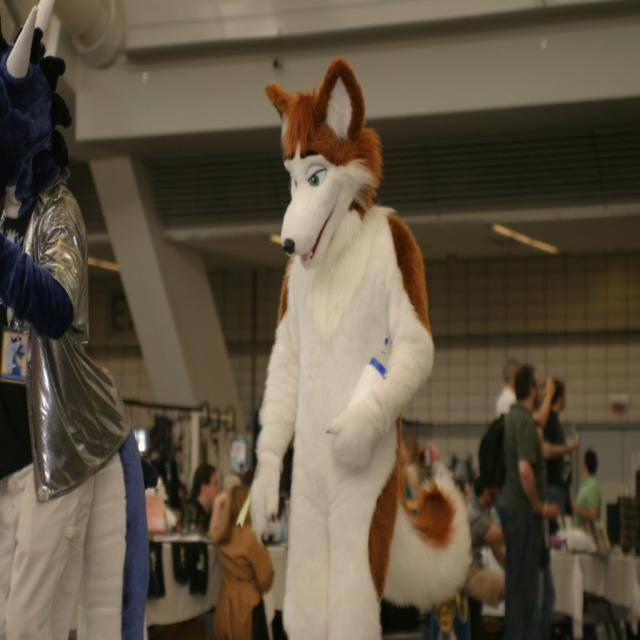Toy: (196, 60, 482, 623), (0, 0, 130, 639)
